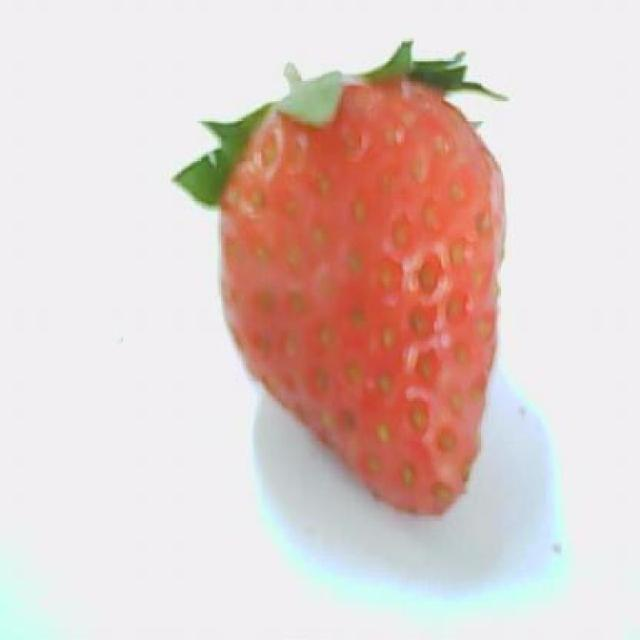strawberry: (175, 41, 505, 514)
